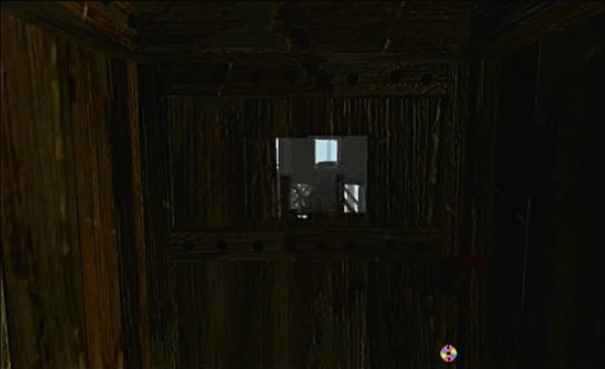Waiting: (436, 342, 461, 362)
